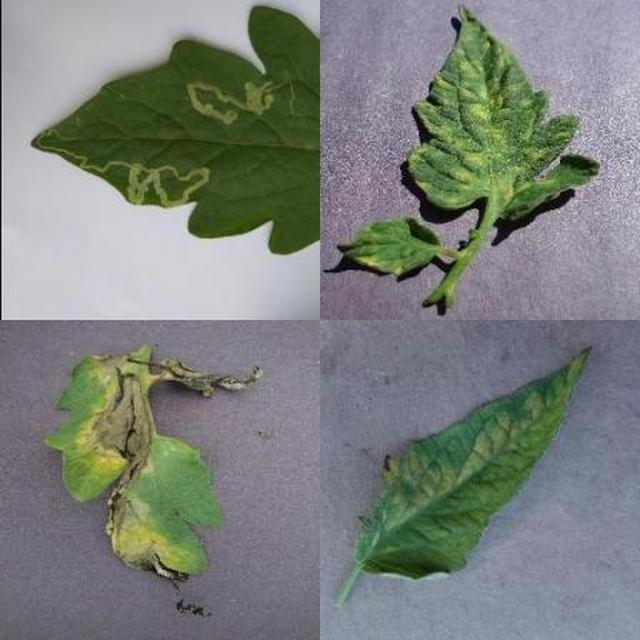Leaf Miner: (147, 80, 640, 640)
